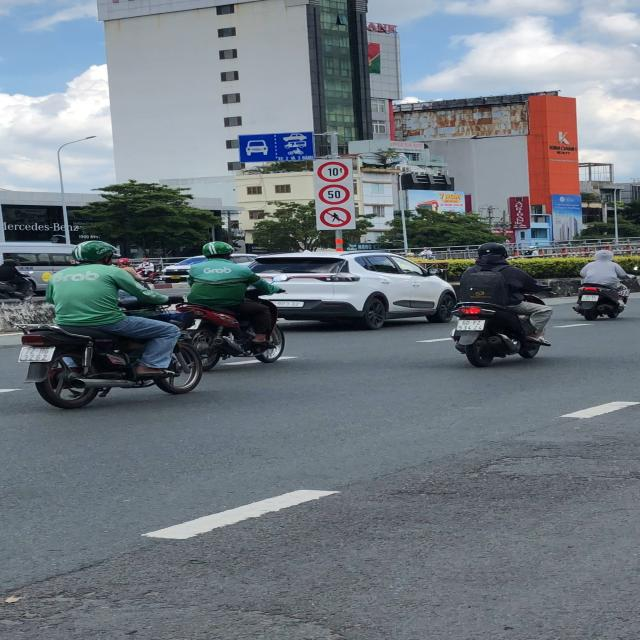Bien bao toc do toi da cho phep: (316, 183, 355, 204)
